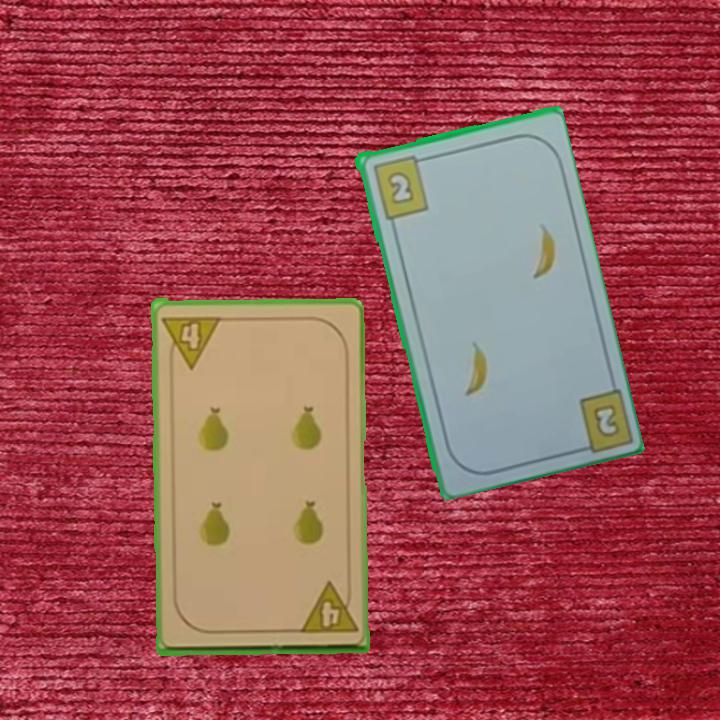2b: (368, 152, 431, 222), (589, 400, 620, 437)
4p: (159, 311, 224, 370), (295, 579, 360, 636)
